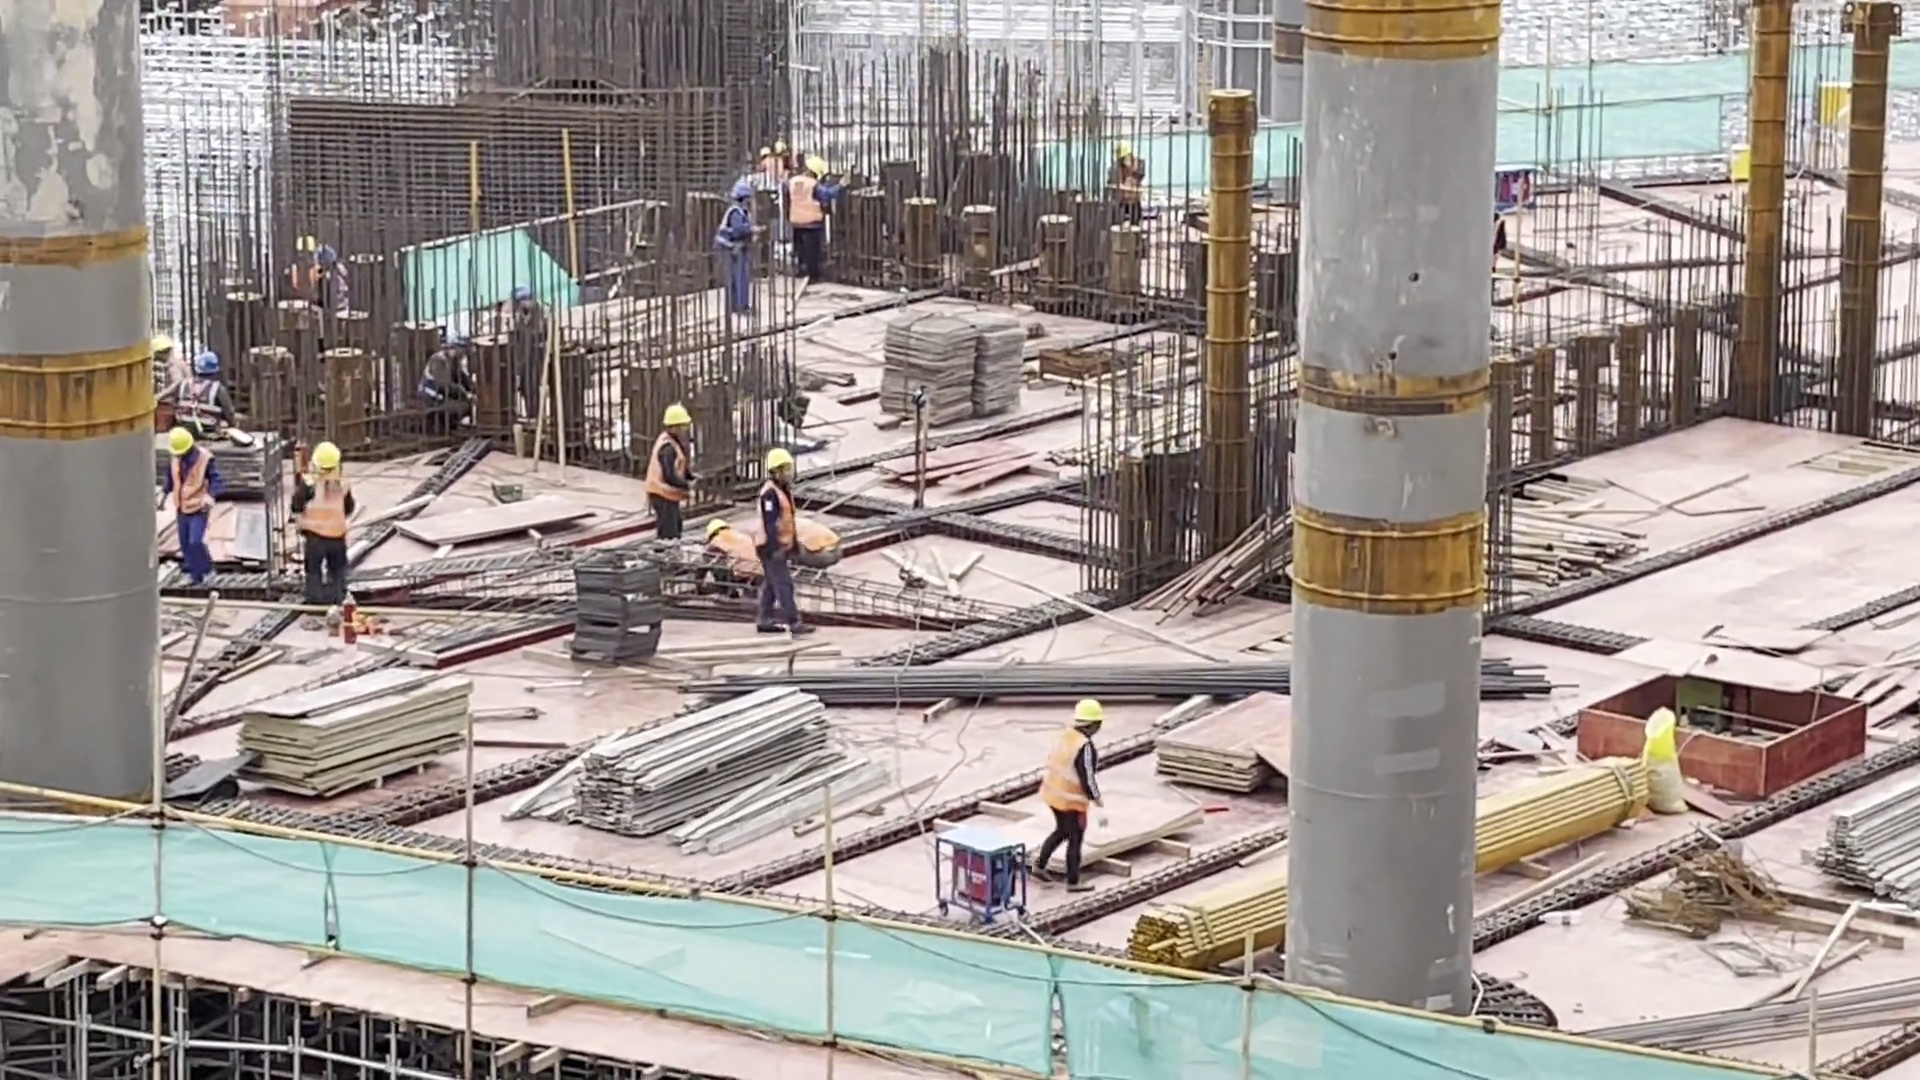board: (240, 670, 475, 788), (1155, 686, 1291, 797)
helmet: (166, 424, 194, 459), (311, 440, 341, 470), (1074, 699, 1104, 726), (659, 403, 692, 426), (766, 446, 794, 471), (706, 515, 729, 539)
person: (1024, 690, 1106, 905), (286, 436, 358, 608), (157, 425, 218, 581), (758, 445, 800, 637), (708, 176, 758, 323), (646, 401, 693, 539), (791, 157, 837, 286), (184, 356, 233, 434), (706, 517, 757, 588), (1109, 143, 1149, 225), (802, 512, 848, 570), (153, 326, 180, 405), (753, 139, 788, 188)
vest: (1038, 727, 1093, 817), (297, 471, 353, 541), (172, 451, 219, 514), (647, 432, 689, 502), (760, 478, 799, 549), (714, 529, 761, 581), (787, 175, 831, 228), (799, 513, 850, 552)
wood: (1509, 496, 1648, 581)
